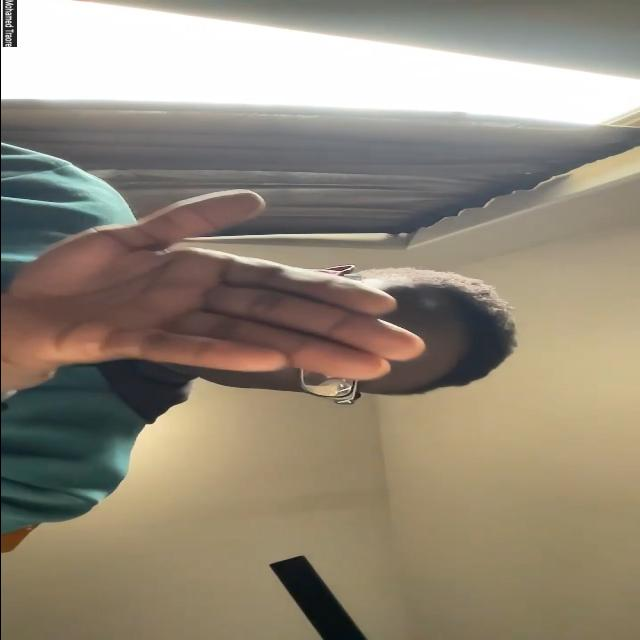Paper: (1, 190, 427, 382)
